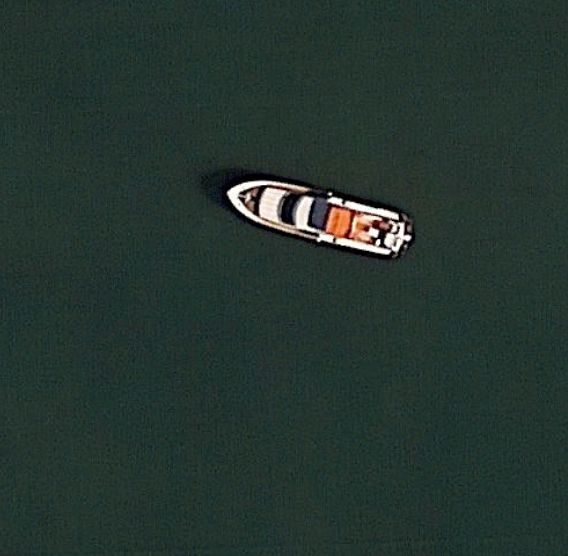boat: (221, 173, 417, 263)
